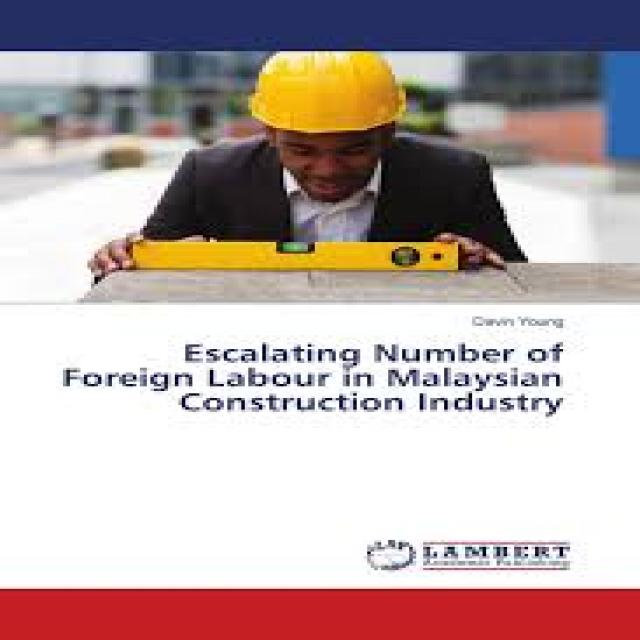Safety-Helmet: (238, 51, 416, 140)
